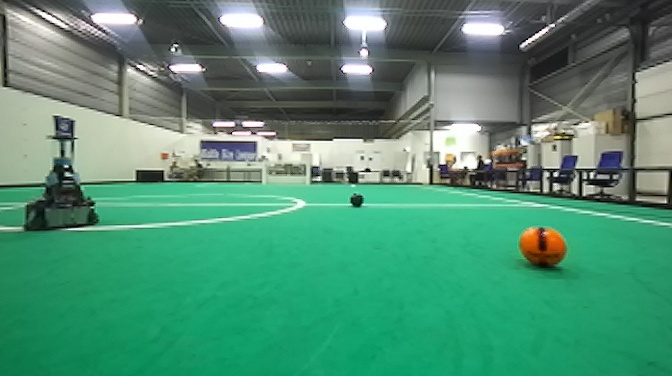ball: (517, 222, 568, 271), (349, 191, 366, 210)
goal: (261, 160, 311, 188)
goalpost: (261, 162, 267, 187), (305, 162, 311, 187)
robot: (20, 110, 103, 235)
